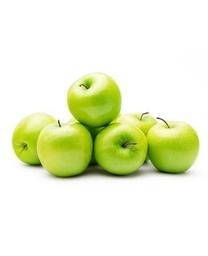apple: (36, 120, 94, 177), (66, 71, 121, 127), (146, 117, 199, 173), (94, 122, 147, 174), (13, 113, 60, 165), (116, 112, 157, 139)
